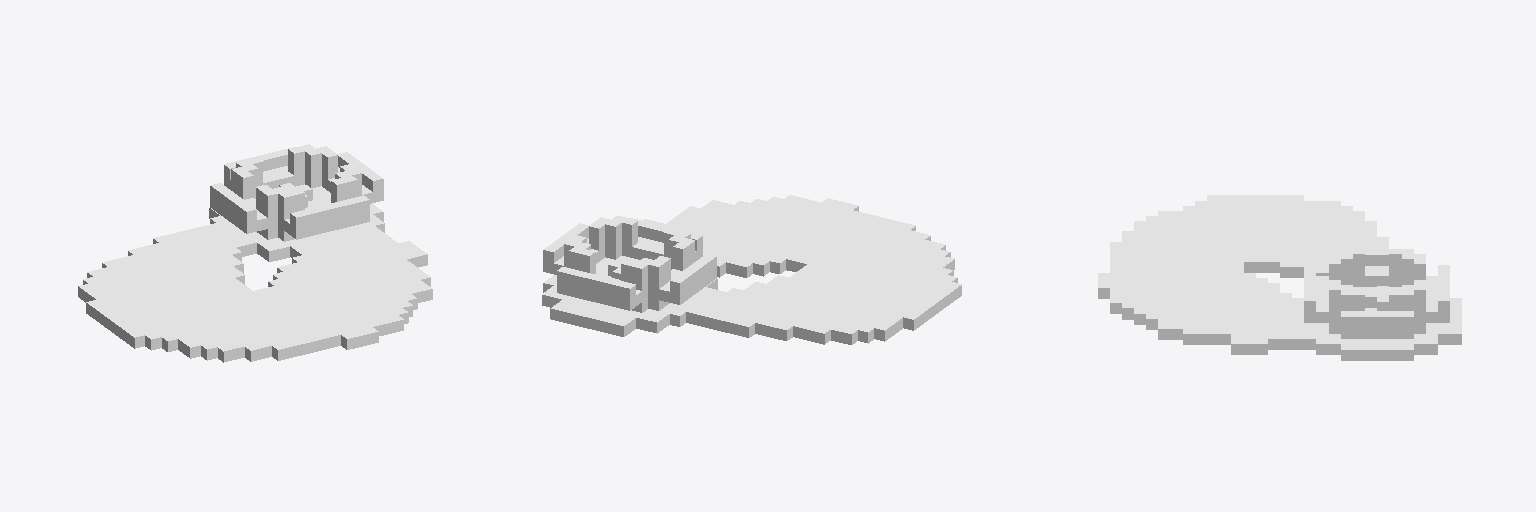
The model's file is lotus.obj.
3 renders of one model, left to right at view 1: azimuth 30°, elevation 25°; view 2: azimuth 150°, elevation 25°; view 3: azimuth 270°, elevation 25°, orthographic.
Parts seen in each view (by area): view 1: object 1; view 2: object 1; view 3: object 1.
Part boxes in pixels (x1,y1,x2,y2): object 1: (78,144,432,362); object 1: (542,195,961,344); object 1: (1098,195,1461,360).
Size of the model in its own units: 3 by 0.5 by 3.